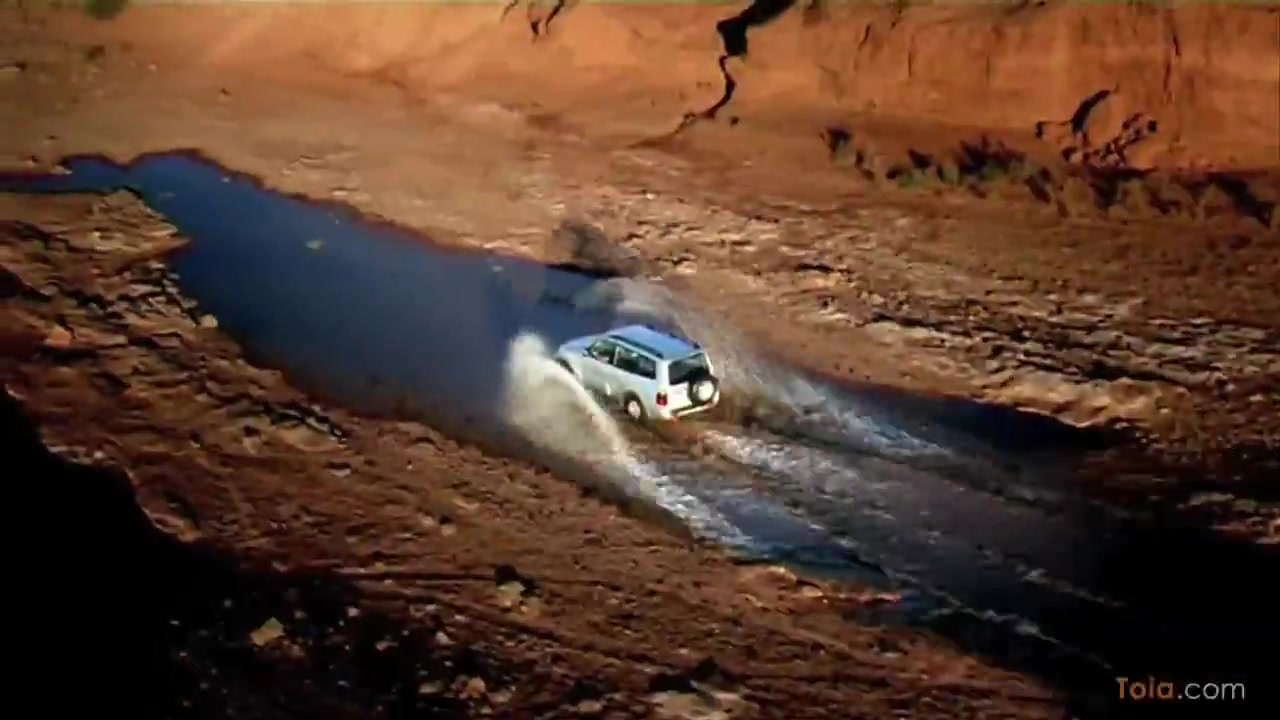car: (553, 323, 725, 433)
